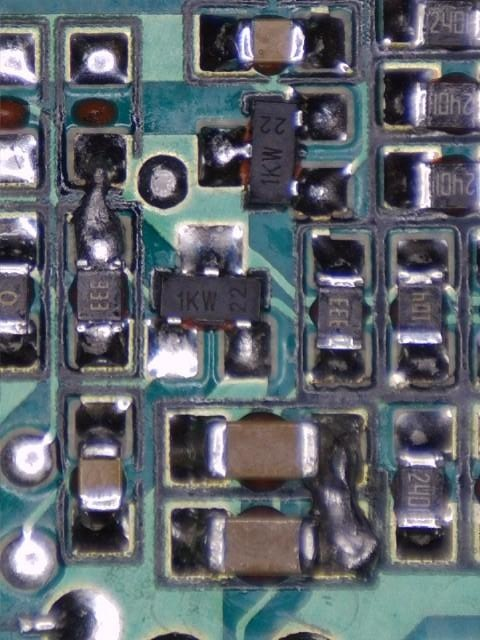pcb_defect: (299, 413, 378, 578), (73, 133, 127, 271)
